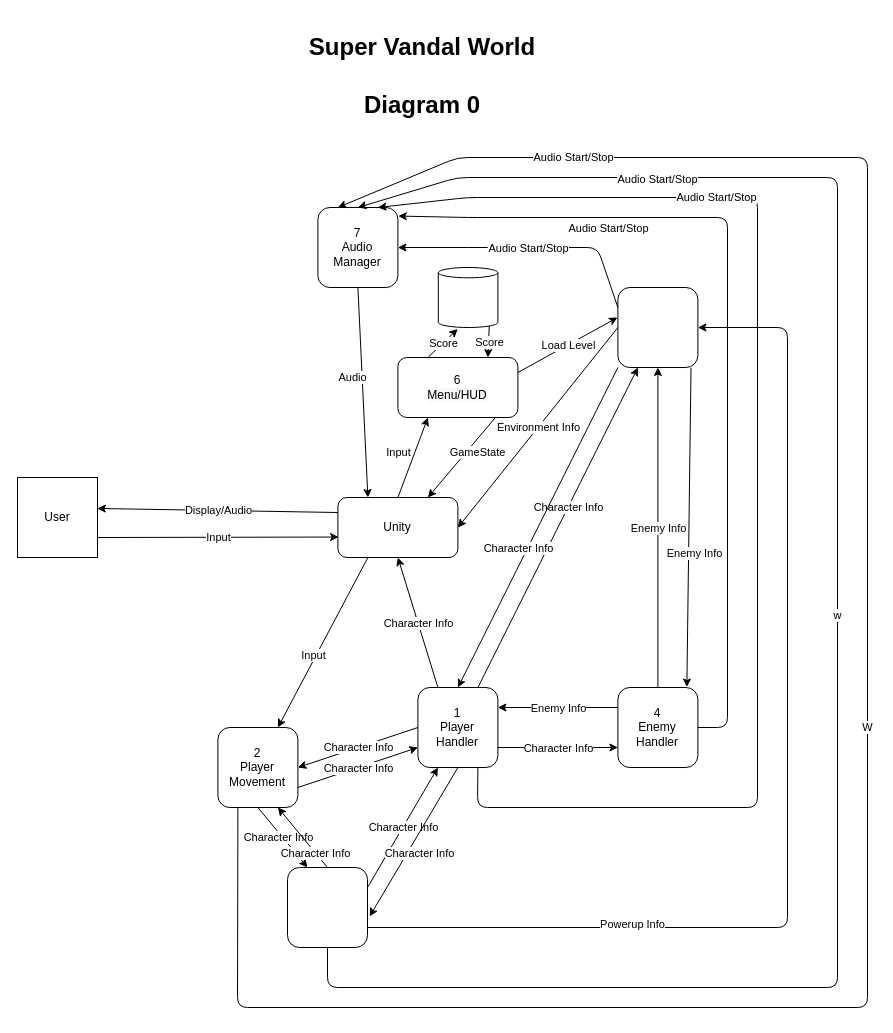
This 893x1033 diagram has some shape labels left out. The box of each missing label's shape, as (x1, y1, x2, y2) in pixels:
3 Pickup Handler: (286, 866, 368, 948)
5 Environment Handler: (617, 286, 698, 368)
Score Data: (437, 266, 498, 328)
